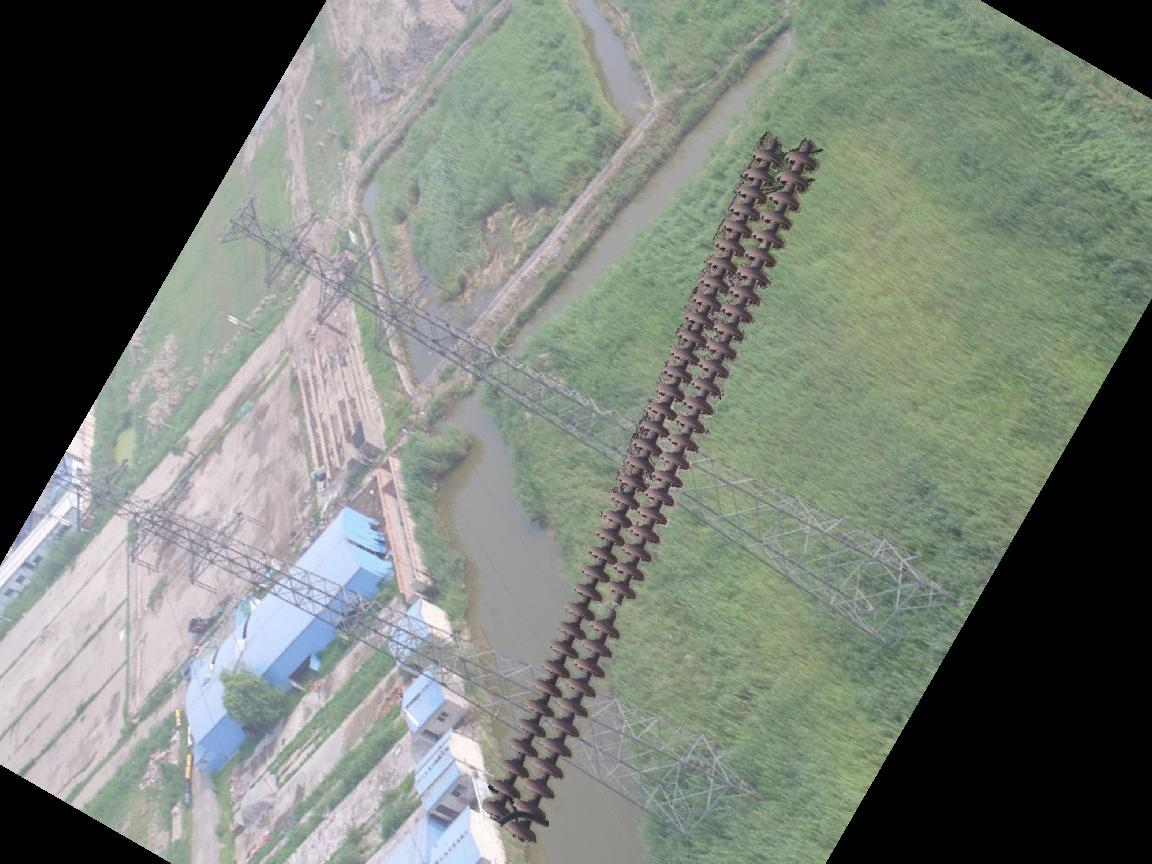insulator: (475, 136, 827, 846)
insulator_stringdrop: (587, 576, 640, 642)
